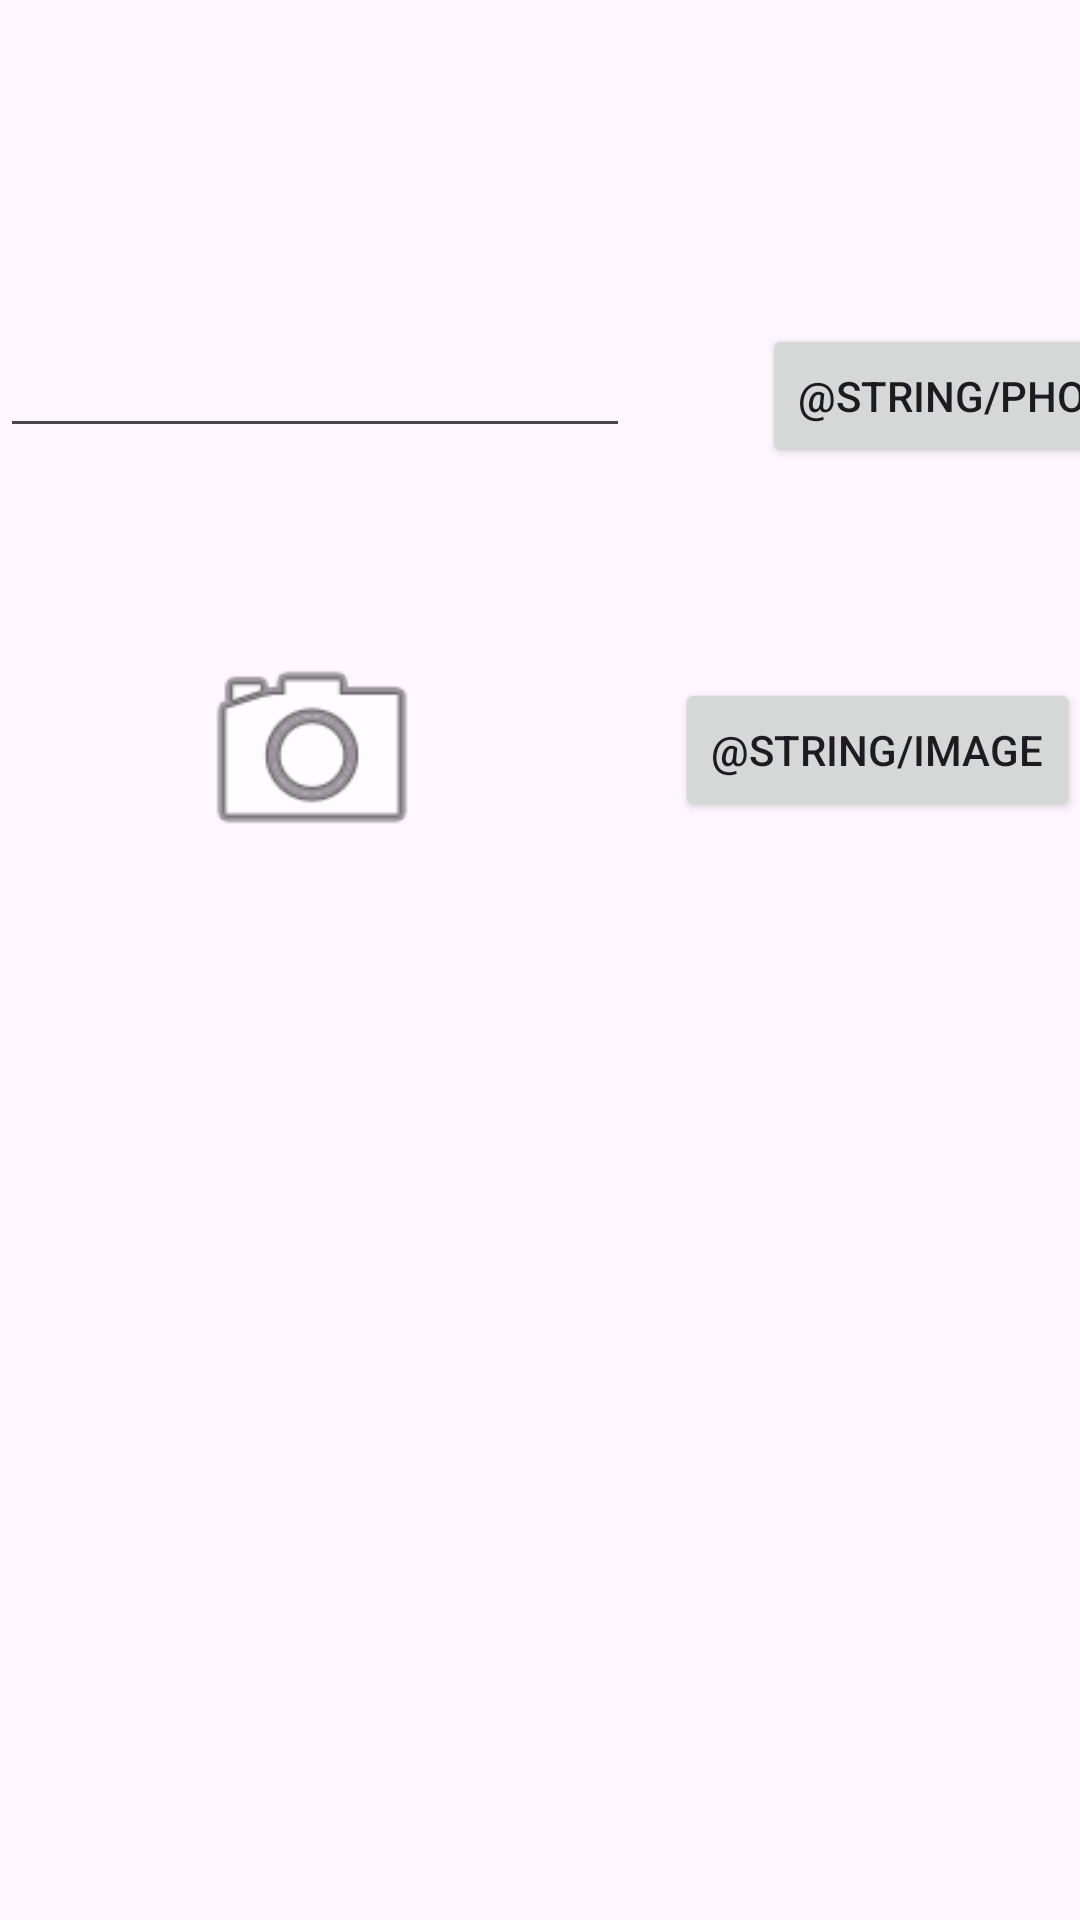

Named icons in this screenshot (1080 × 1920) and their bounding boxes, (x1, y1, x2, y2):
camera: (217, 671, 407, 823)
